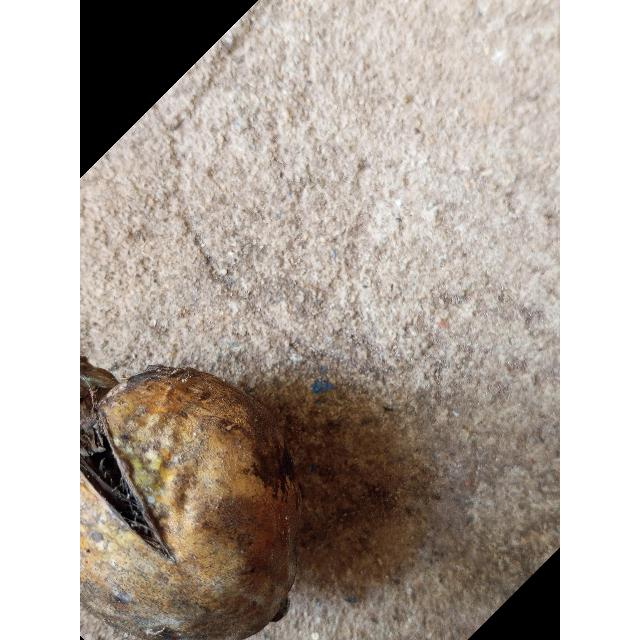damaged: (80, 367, 301, 640)
